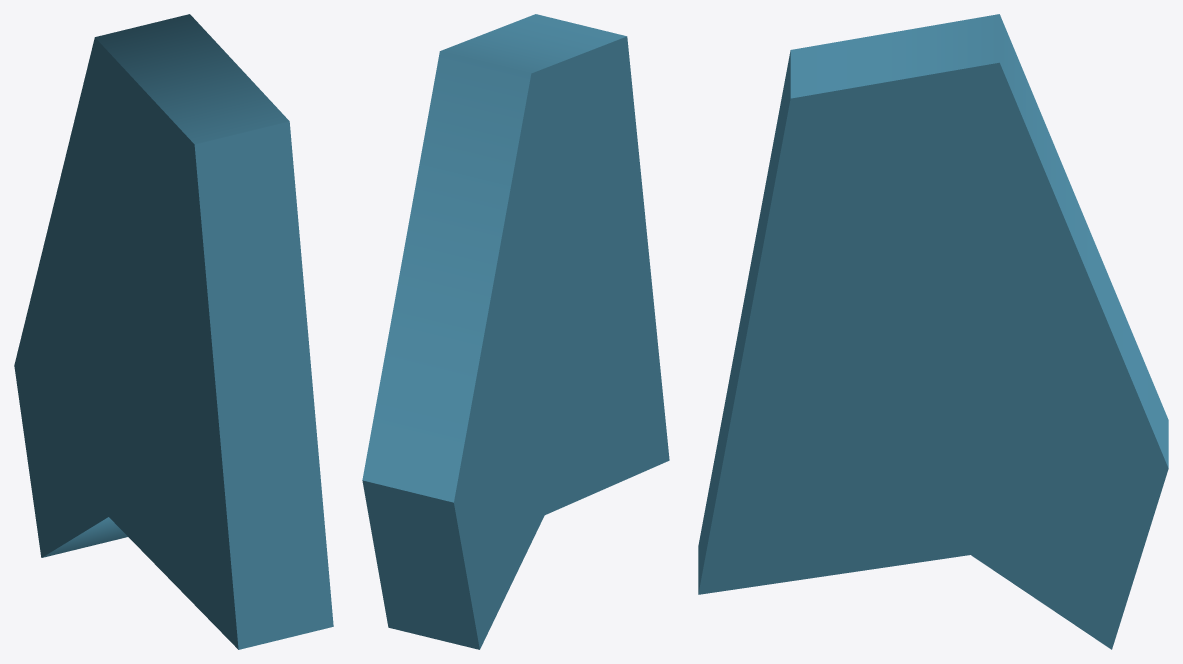
The model's file is NexusC_Trigger_10.fbx.
3 renders of one model, left to right at view 1: azimuth 30°, elevation 25°; view 2: azimuth 150°, elevation 25°; view 3: azimuth 270°, elevation 25°, orthographic. The views are drawn at different scales.
Visible parts, largest first — view 1: polySurface44; view 2: polySurface44; view 3: polySurface44.
Part boxes in pixels (x1=…): polySurface44: x1=14, y1=14, x2=333, y2=649; polySurface44: x1=362, y1=14, x2=669, y2=649; polySurface44: x1=698, y1=14, x2=1168, y2=649.
Size of the model in its own units: 9.22 by 51.87 by 37.64.
